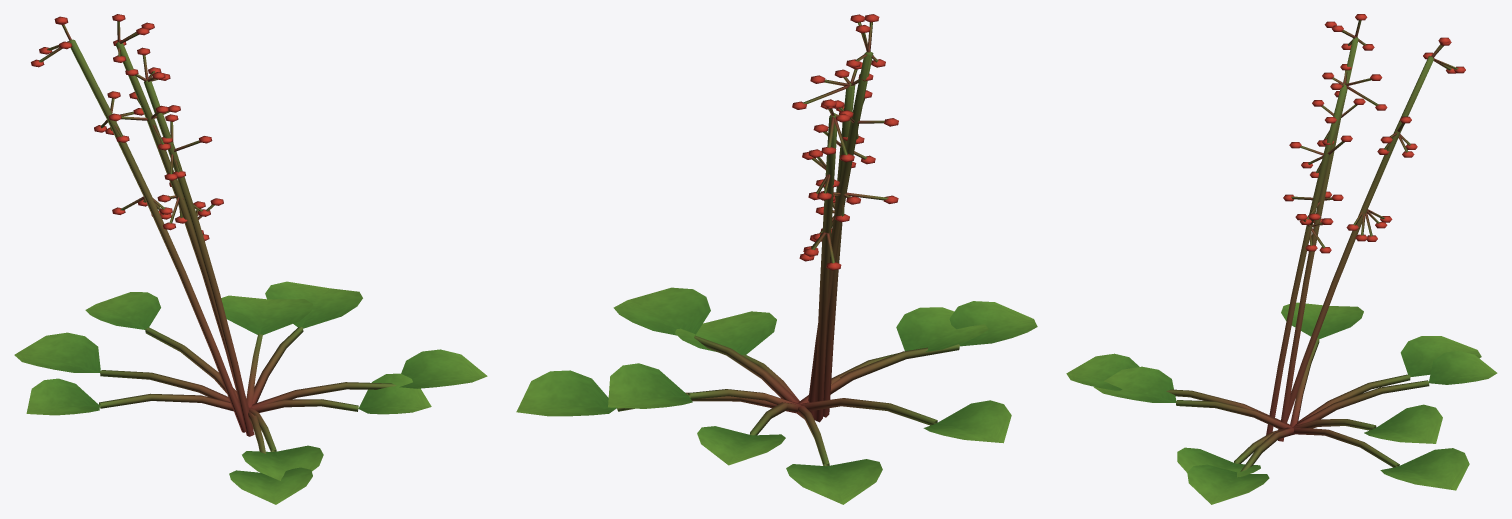
The model's file is mountainsorrel.glb.
3 renders of one model, left to right at view 1: azimuth 30°, elevation 25°; view 2: azimuth 150°, elevation 25°; view 3: azimuth 270°, elevation 25°, orthographic. The views are drawn at different scales.
Visible parts, largest first — view 1: mountainsorrel; view 2: mountainsorrel; view 3: mountainsorrel.
Part boxes in pixels (x1,y1,x2,y2): mountainsorrel: [14, 14, 487, 504]; mountainsorrel: [516, 14, 1037, 504]; mountainsorrel: [1066, 14, 1497, 504].
Size of the model in its own units: 0.3337 by 0.3239 by 0.3284.
Materials: 1 (1 with a texture image).
